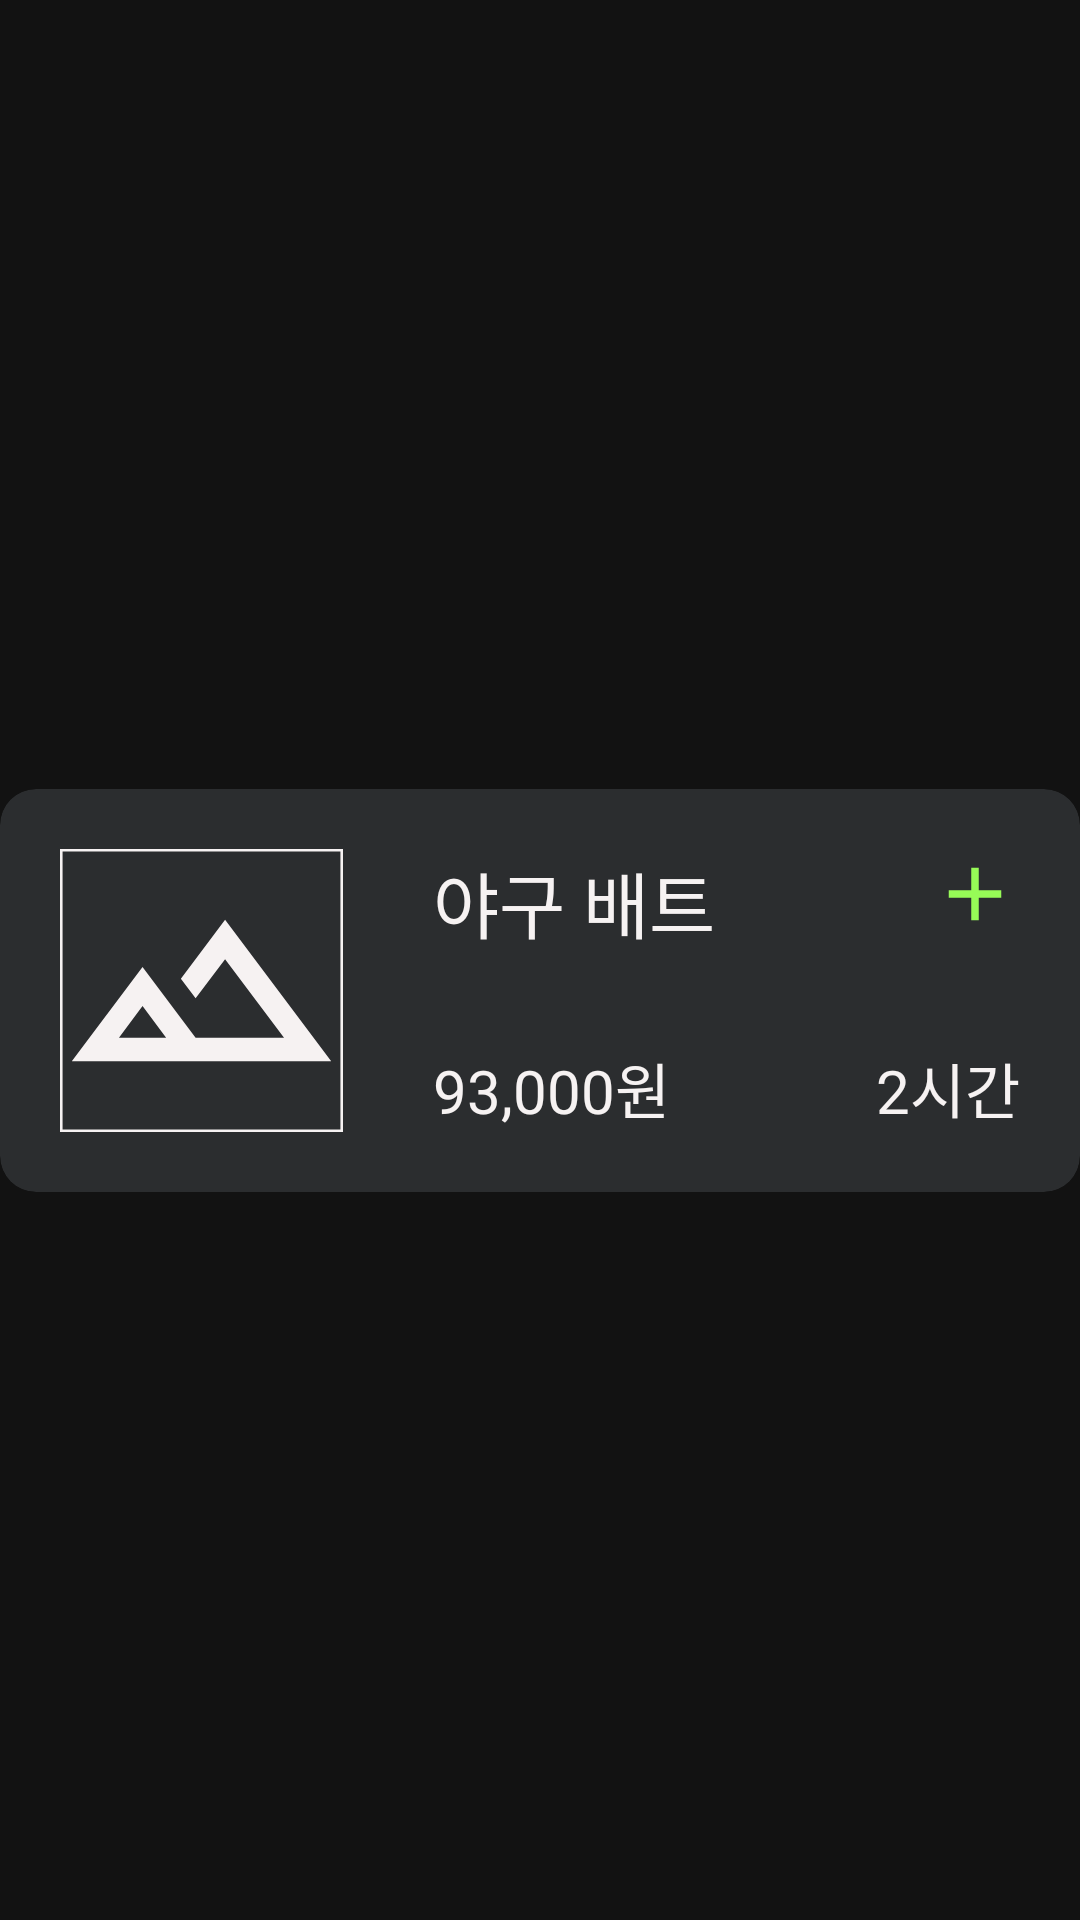

Screen size 1080x1920. Icon name, then its box in pixels as bbox=(x1, y1, x2, y2):
plus: bbox=(948, 867, 1002, 921)
